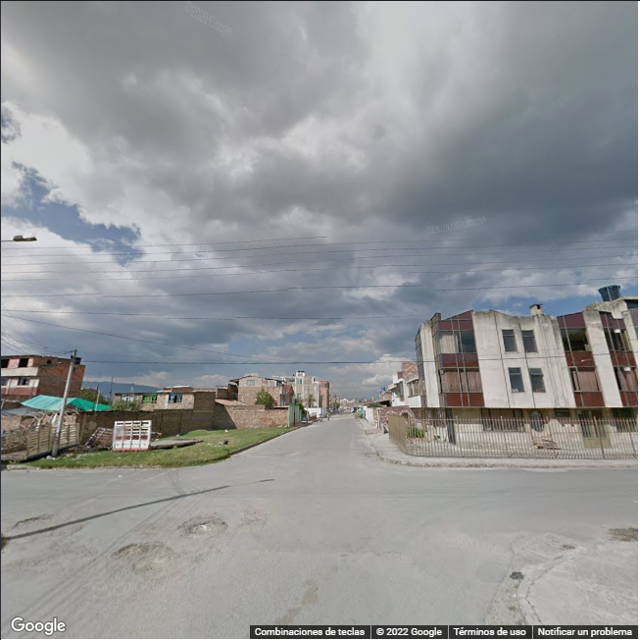D00: (488, 534, 519, 618)
D10: (251, 547, 395, 558)
D40: (106, 541, 170, 567), (181, 514, 235, 537)
